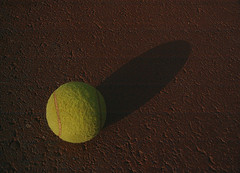tennis ball: (44, 80, 107, 144)
